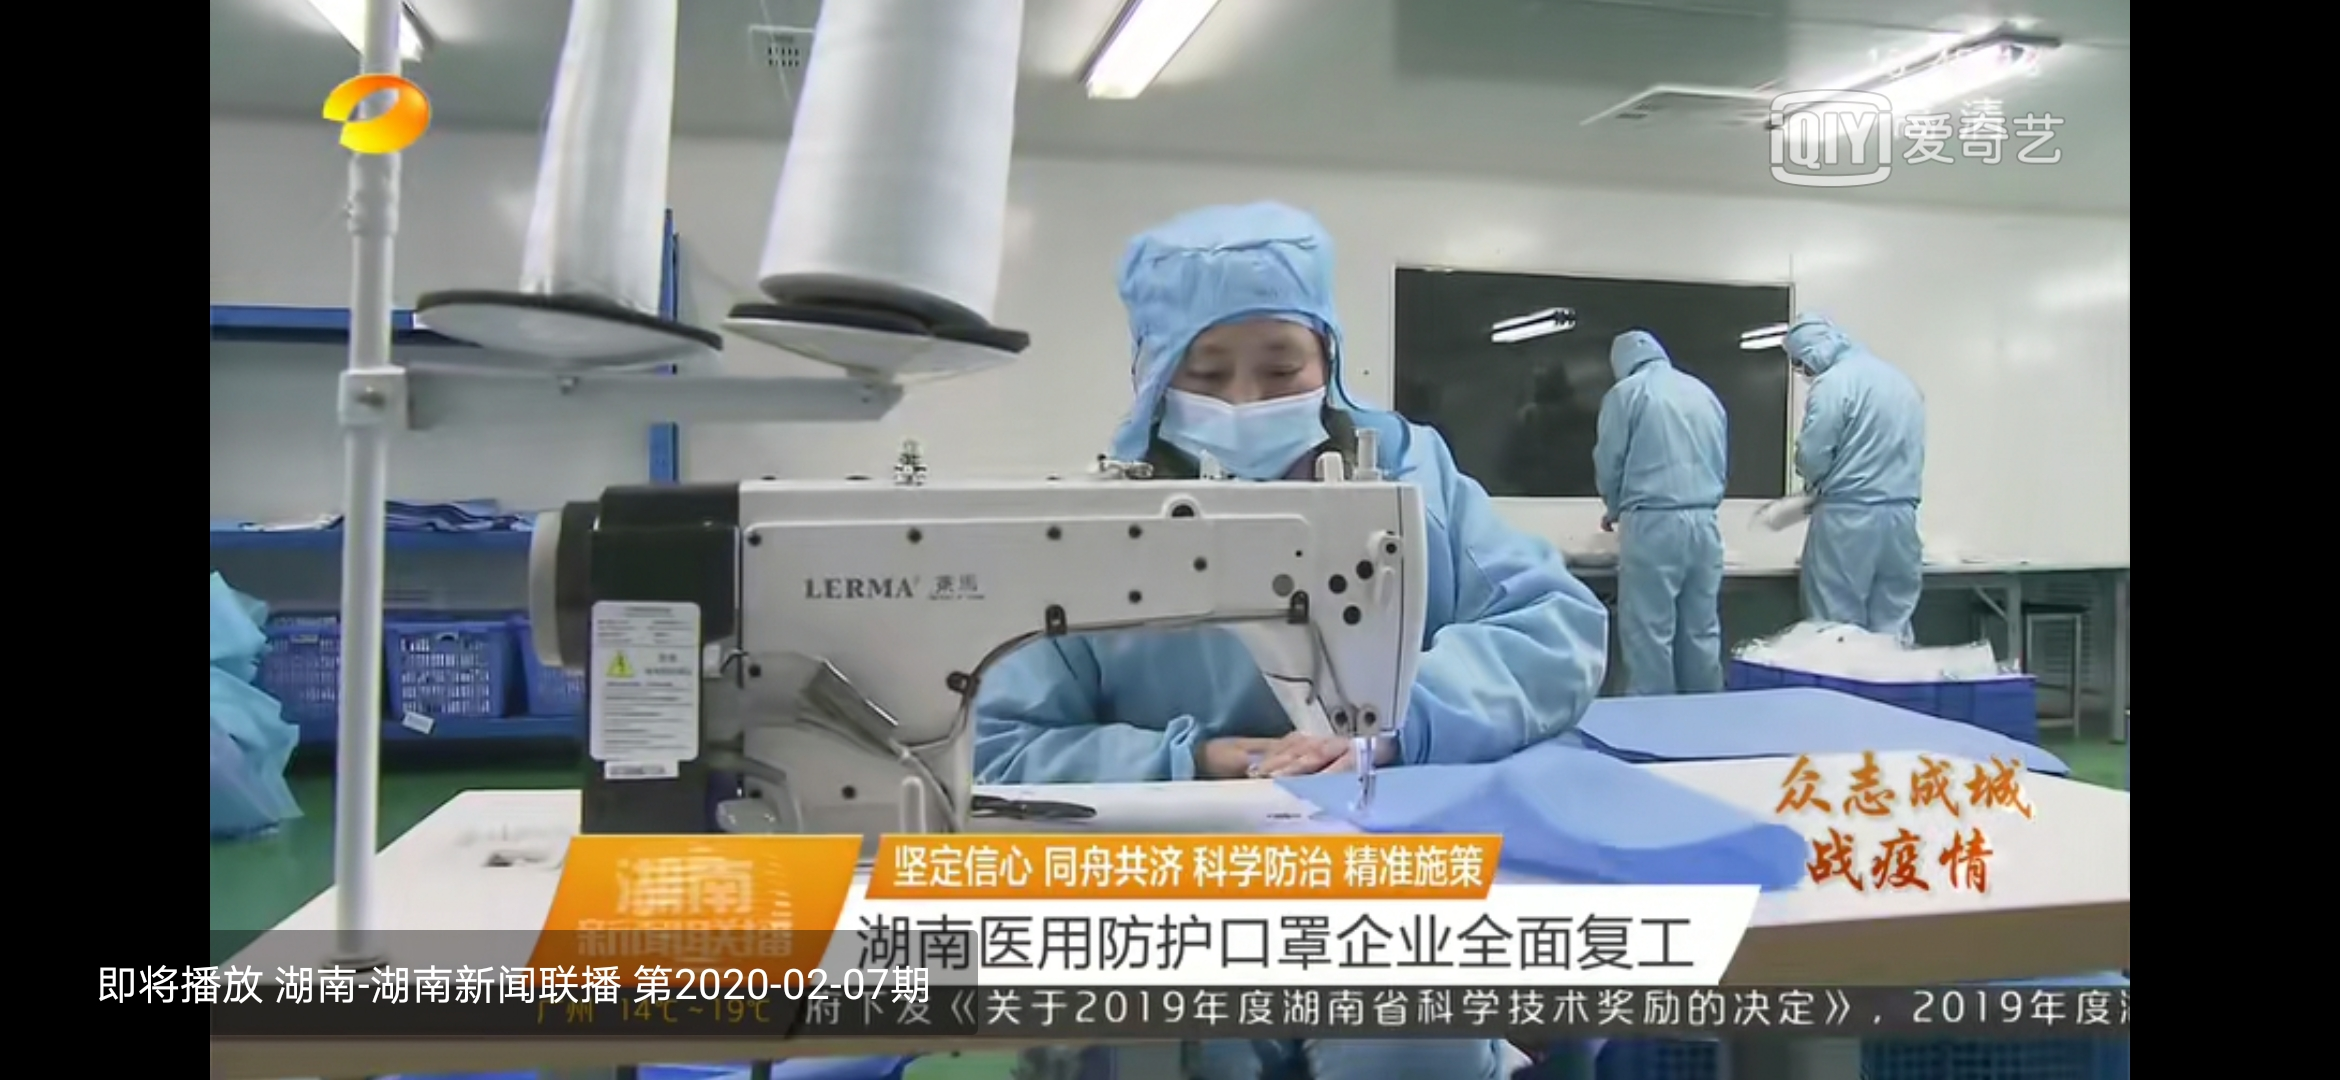correctlyWear: (1149, 309, 1336, 483)
